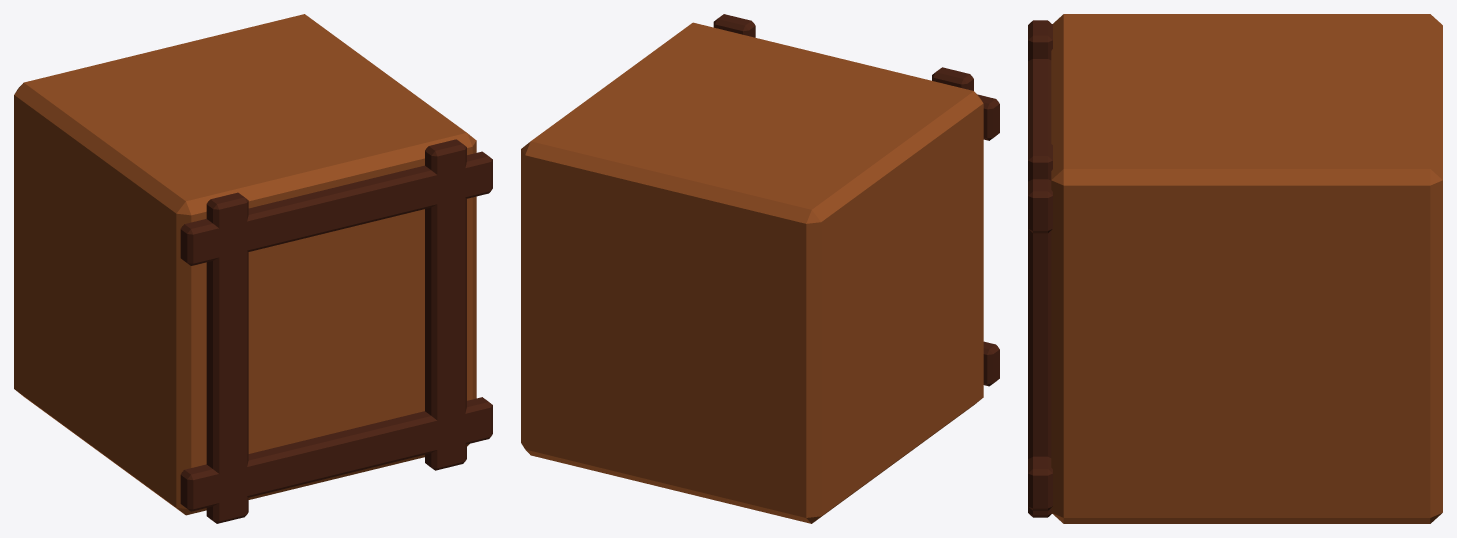
File: ENV_streets_crate__v001__model.fbx
The picture shows the model from 3 angles, left to right: view 1: azimuth 30°, elevation 25°; view 2: azimuth 150°, elevation 25°; view 3: azimuth 270°, elevation 25°; orthographic projection. The views are drawn at different scales.
Visible parts, largest first — view 1: ENV_streets_crate_Mesh; view 2: ENV_streets_crate_Mesh; view 3: ENV_streets_crate_Mesh.
Boxes of the visible parts, left/top/right/bottom form: ENV_streets_crate_Mesh: left=14, top=14, right=492, bottom=523; ENV_streets_crate_Mesh: left=521, top=14, right=999, bottom=523; ENV_streets_crate_Mesh: left=1028, top=14, right=1442, bottom=523.
Size of the model in its own units: 1.12 by 1.12 by 1.17.
Materials: 1 (1 with a texture image).
